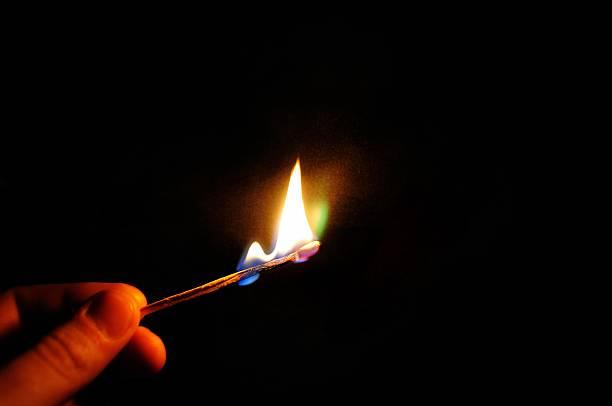Fire: (236, 146, 324, 290)
